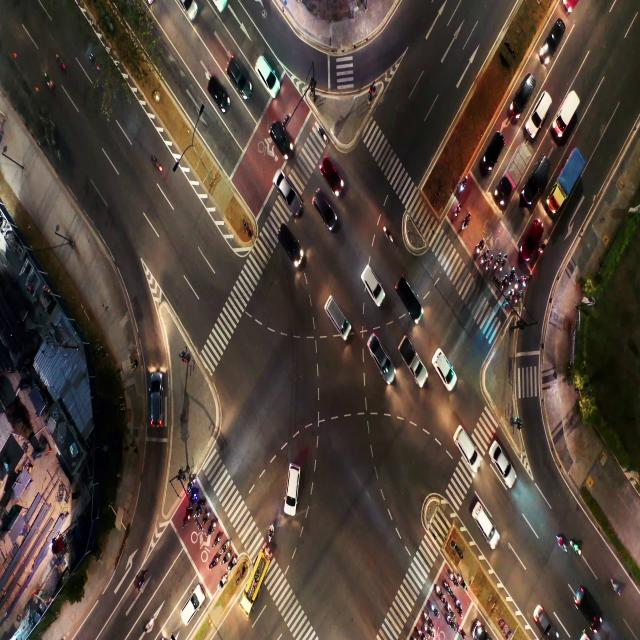bus: (254, 566, 263, 584)
car: (328, 301, 346, 330), (150, 386, 164, 418), (580, 594, 594, 617), (286, 469, 297, 496), (538, 607, 549, 634), (476, 510, 488, 533), (256, 61, 269, 81), (369, 346, 385, 362), (437, 362, 452, 378), (185, 600, 198, 618), (482, 143, 496, 159), (401, 281, 412, 301), (458, 432, 469, 451), (536, 100, 546, 120), (526, 229, 536, 249), (182, 1, 195, 16), (315, 196, 326, 213), (518, 84, 529, 101), (213, 80, 222, 99), (498, 450, 506, 470), (274, 125, 283, 142), (232, 66, 241, 82), (322, 164, 334, 175), (366, 268, 374, 284), (550, 31, 559, 44), (536, 168, 542, 187), (285, 233, 293, 245), (282, 182, 288, 192)
motorcycle: (318, 126, 331, 144), (554, 532, 564, 552), (134, 567, 143, 589), (610, 578, 620, 596), (142, 617, 154, 630), (44, 76, 54, 91), (382, 227, 392, 242), (571, 537, 578, 557), (153, 159, 161, 175), (90, 53, 98, 68), (268, 524, 274, 540), (58, 59, 65, 72), (462, 220, 468, 230), (223, 555, 228, 565), (508, 272, 513, 282), (444, 582, 449, 592), (456, 598, 461, 608), (211, 557, 215, 569), (223, 542, 229, 550), (219, 578, 225, 586), (229, 560, 234, 569), (477, 244, 482, 253), (447, 603, 452, 612), (540, 243, 544, 254), (416, 629, 422, 636), (184, 514, 188, 524), (460, 182, 465, 190), (460, 578, 464, 588), (447, 616, 451, 626), (459, 624, 463, 634), (198, 505, 202, 514), (431, 603, 435, 612), (189, 481, 194, 488), (455, 206, 458, 217), (203, 514, 207, 522), (209, 523, 213, 531), (215, 536, 219, 544), (501, 282, 505, 290), (508, 292, 512, 300), (424, 614, 429, 620), (480, 257, 484, 264), (451, 573, 455, 580), (425, 626, 429, 633), (191, 496, 195, 502), (486, 264, 490, 270), (436, 585, 439, 593), (515, 298, 518, 304), (523, 281, 526, 287), (494, 262, 496, 270), (500, 265, 502, 272), (515, 284, 518, 288)
truck: (560, 168, 573, 190), (407, 352, 418, 369), (512, 162, 521, 181), (564, 102, 574, 118)
